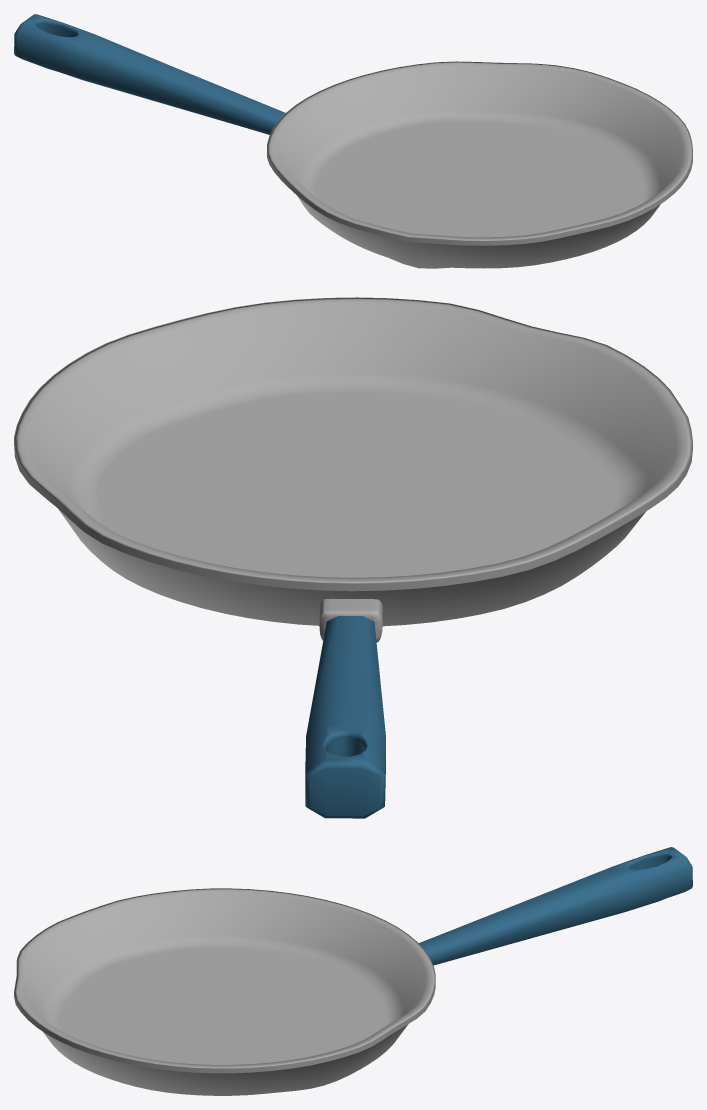
The model's file is FryingPanA_SM.fbx.
The picture shows the model from 3 angles, top to bottom: view 1: azimuth 30°, elevation 25°; view 2: azimuth 150°, elevation 25°; view 3: azimuth 270°, elevation 25°; orthographic projection. The views are drawn at different scales.
Parts seen in each view (by area): view 1: FryingPasA_SM; view 2: FryingPasA_SM; view 3: FryingPasA_SM.
Boxes of the visible parts, left/top/right/bottom form: FryingPasA_SM: left=14, top=14, right=692, bottom=268; FryingPasA_SM: left=14, top=297, right=692, bottom=818; FryingPasA_SM: left=14, top=847, right=692, bottom=1095.
Bounding box in the file's own units: 0.6766 × 0.1024 × 0.935.
